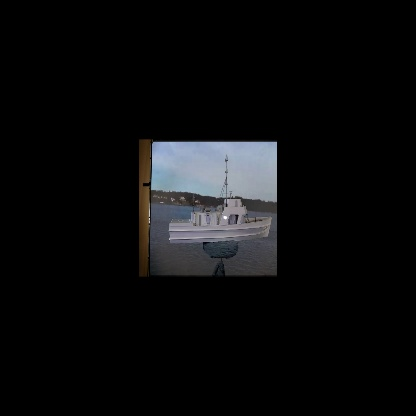YP689: (169, 153, 272, 244)
